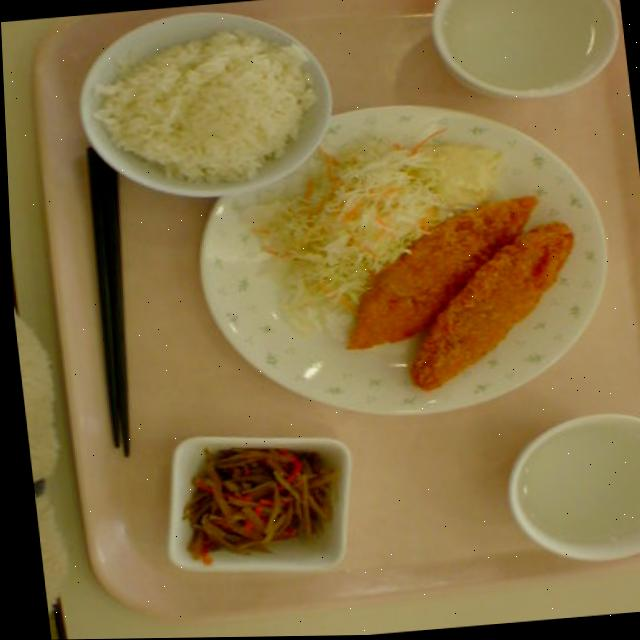炸货点心: (322, 196, 593, 396)
熟制海鲜: (322, 196, 593, 396)
米饭主食: (64, 0, 342, 214)
蔬菜料理: (240, 107, 505, 327), (151, 432, 358, 583)
